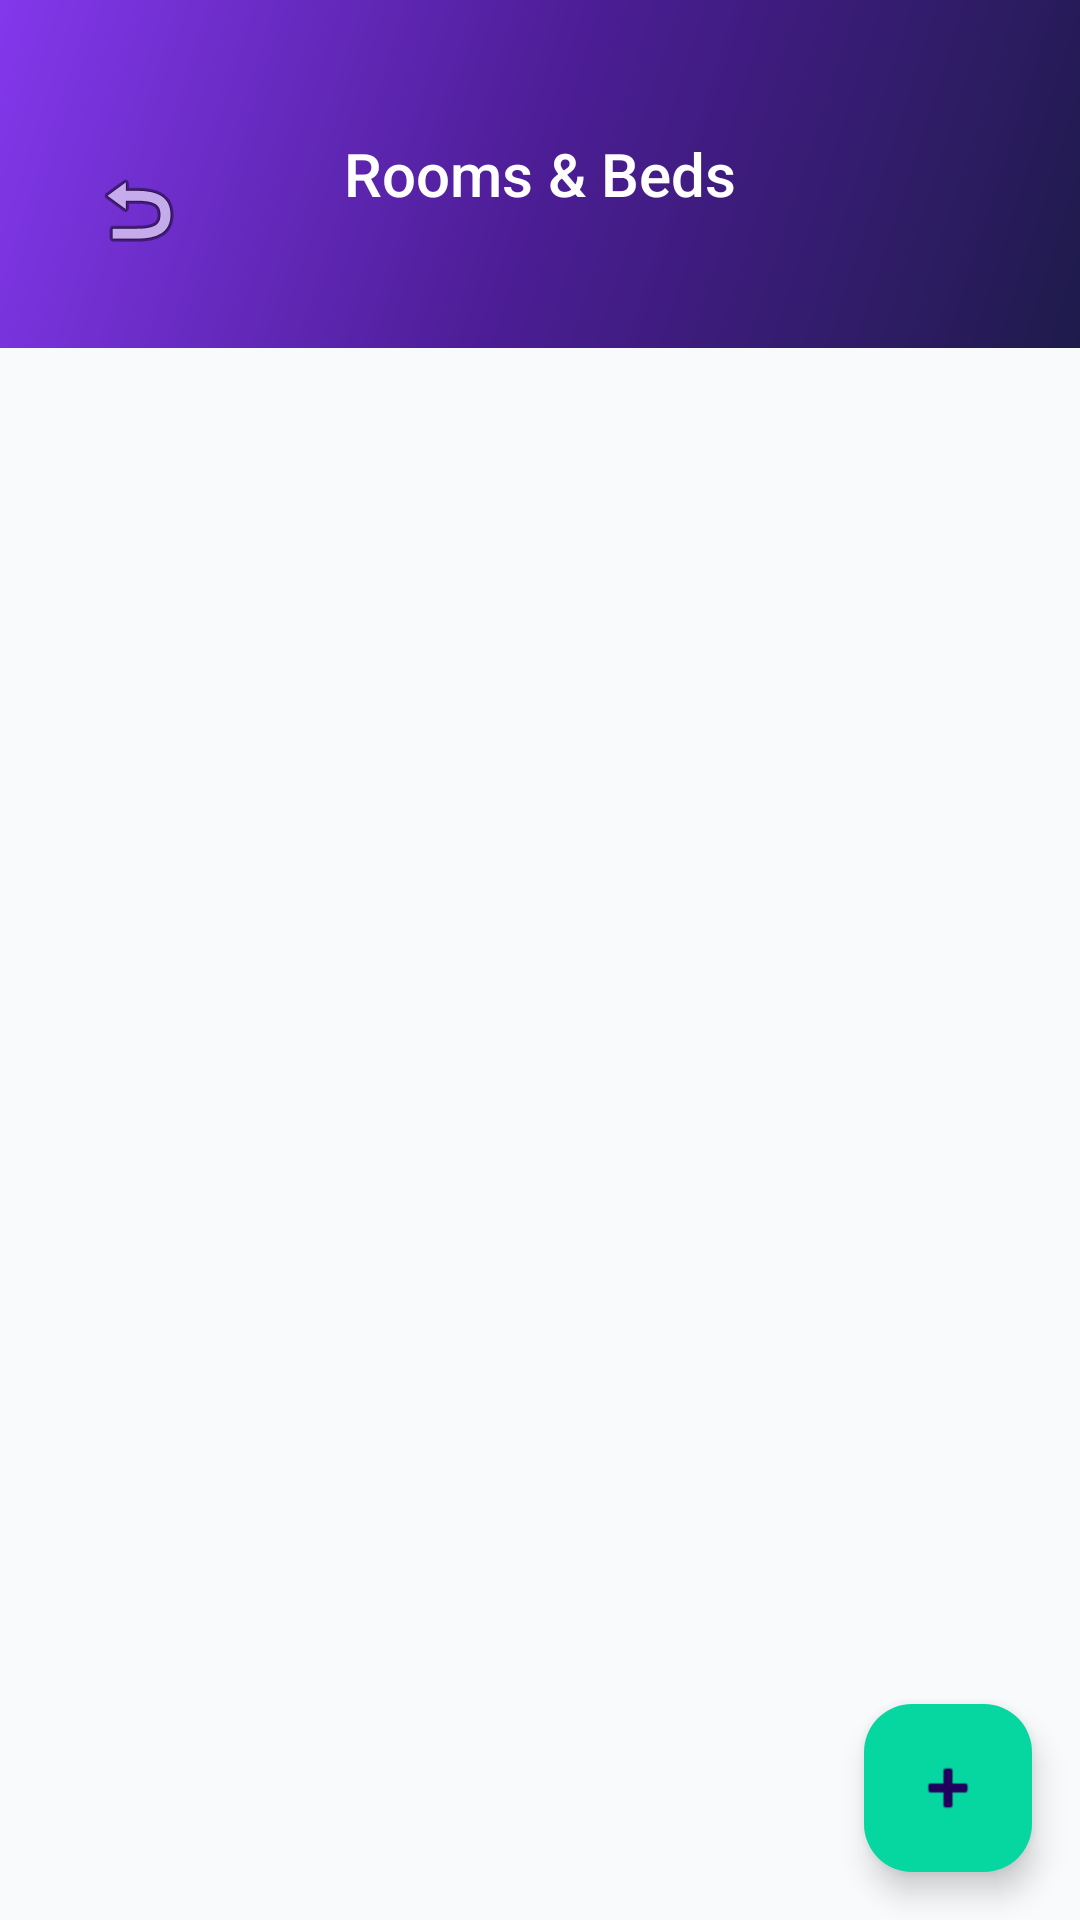

Icon click points for this 1080 x 1920 phone screenshot, format (x,y):
Add Room: (948,1788)
Back: (139,211)
